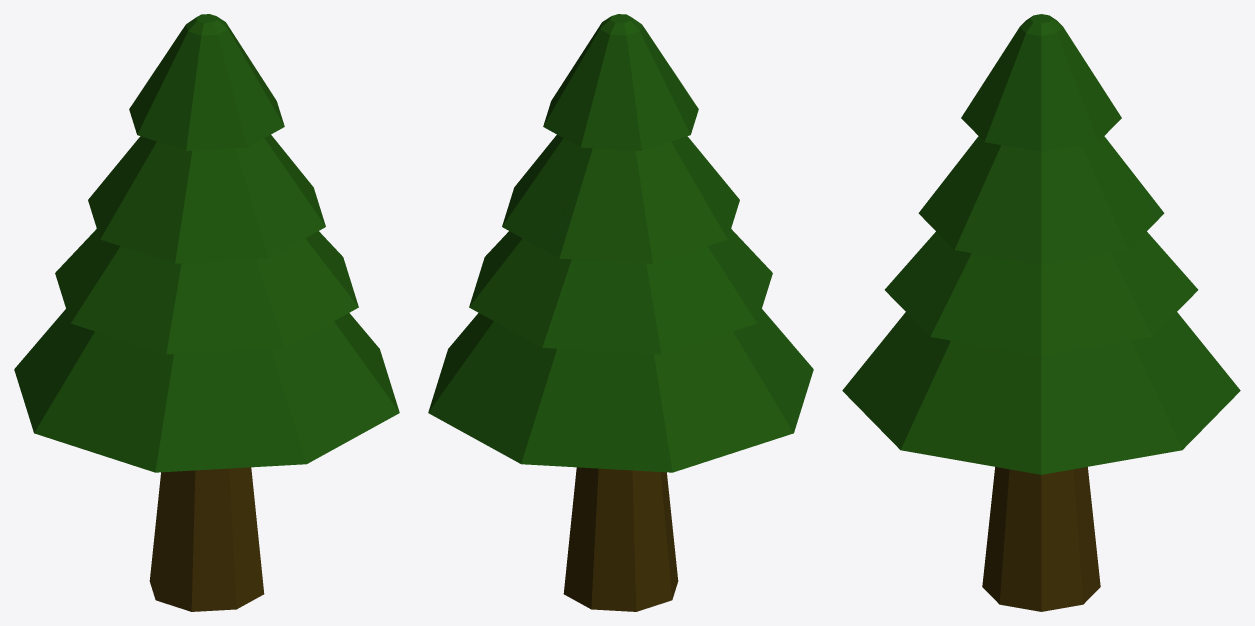
Rendered from PineTree.FBX.
The picture shows the model from 3 angles, left to right: view 1: azimuth 30°, elevation 25°; view 2: azimuth 150°, elevation 25°; view 3: azimuth 270°, elevation 25°; orthographic projection.
Visible parts, largest first — view 1: PineTree; view 2: PineTree; view 3: PineTree.
Part boxes in pixels (box(x1,y1,x2,y2)): PineTree: box(14, 14, 399, 611); PineTree: box(428, 14, 813, 611); PineTree: box(842, 14, 1240, 611).
Bounding box in the file's own units: 30.68 × 48.25 × 30.68.
